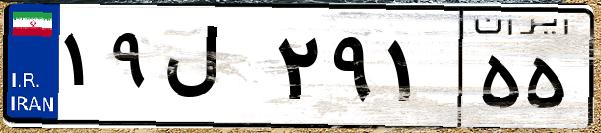1: (385, 28, 445, 110), (57, 26, 110, 100)
2: (270, 28, 330, 110)
5: (475, 38, 525, 113), (525, 38, 570, 115)
9: (330, 28, 385, 110), (110, 28, 158, 98)
ل: (158, 20, 270, 120)
